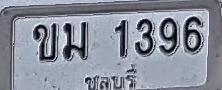1: (114, 19, 128, 57)
3: (135, 18, 154, 55)
6: (184, 16, 202, 53)
9: (160, 17, 178, 54)
A02: (32, 23, 59, 62)
A33: (62, 21, 89, 61)
CBI: (83, 66, 142, 90)
